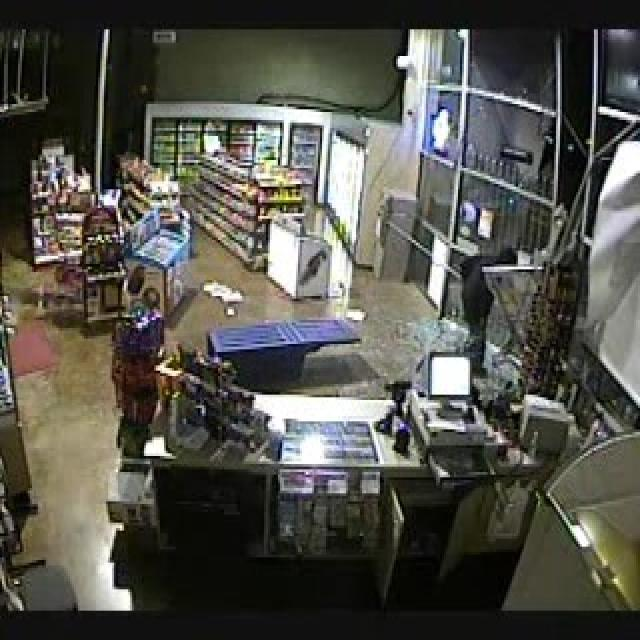thief: (466, 236, 533, 380)
